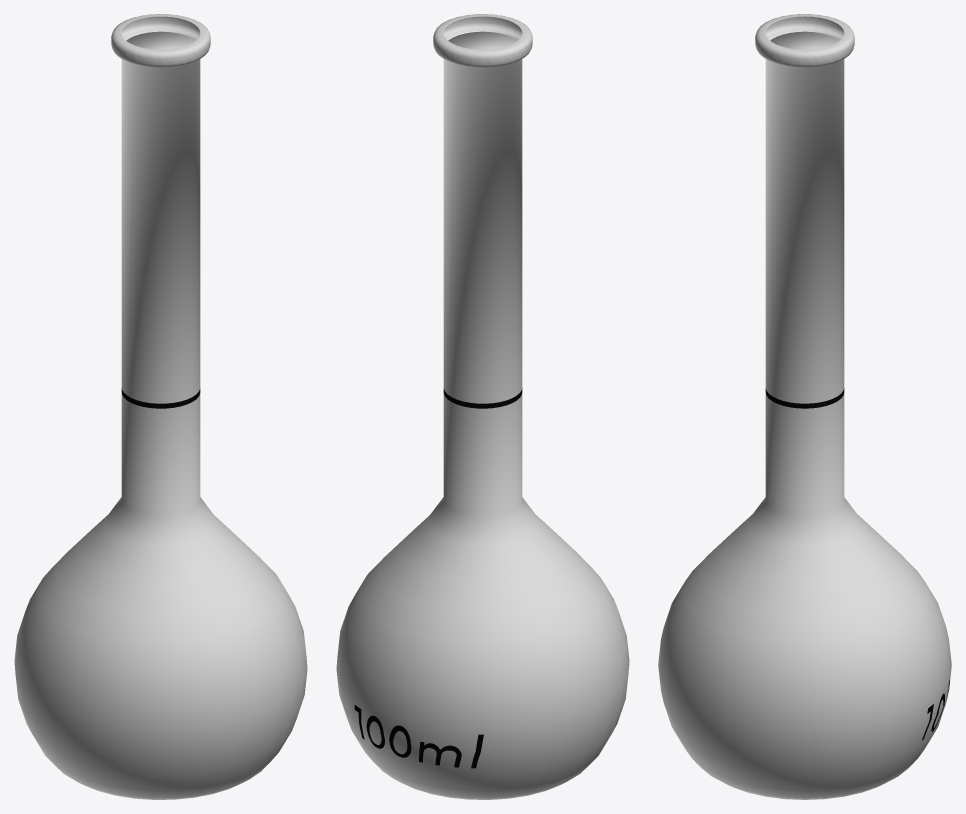
Rendered from Wadah bulat full.fbx.
The picture shows the model from 3 angles, left to right: view 1: azimuth 30°, elevation 25°; view 2: azimuth 150°, elevation 25°; view 3: azimuth 270°, elevation 25°; orthographic projection.
Visible parts, largest first — view 1: Sphere, Sphere.003; view 2: Sphere, Sphere.002, Sphere.003; view 3: Sphere, Sphere.003.
Boxes of the visible parts, x1,y1,x2,y2 form: Sphere: (14, 14, 307, 799); Sphere.003: (126, 31, 195, 49); Sphere: (336, 14, 629, 799); Sphere.002: (354, 705, 483, 768); Sphere.003: (448, 31, 517, 49); Sphere: (658, 14, 951, 799); Sphere.003: (770, 31, 839, 49).
Bounding box in the file's own units: 200 × 546 × 200.
3 materials, 1 textured.
